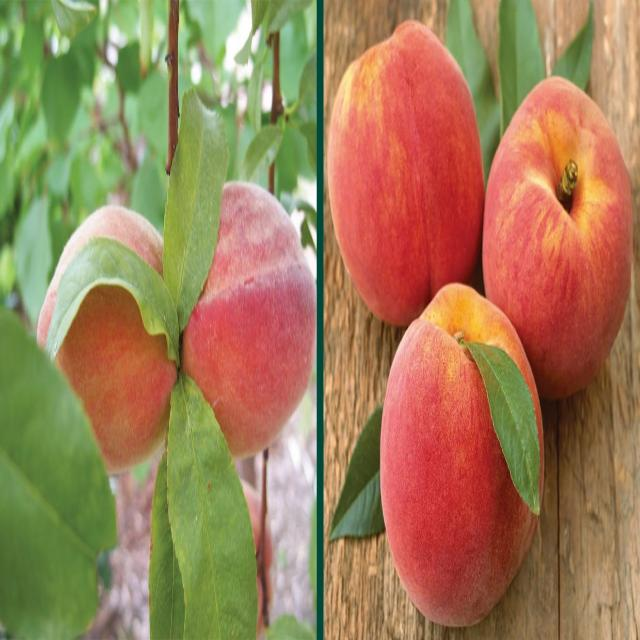peach: (55, 111, 315, 640)
